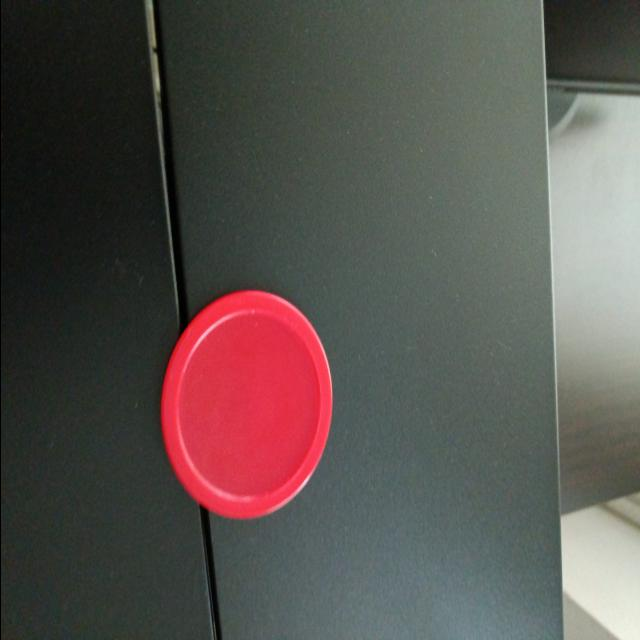chip: (156, 282, 338, 524)
